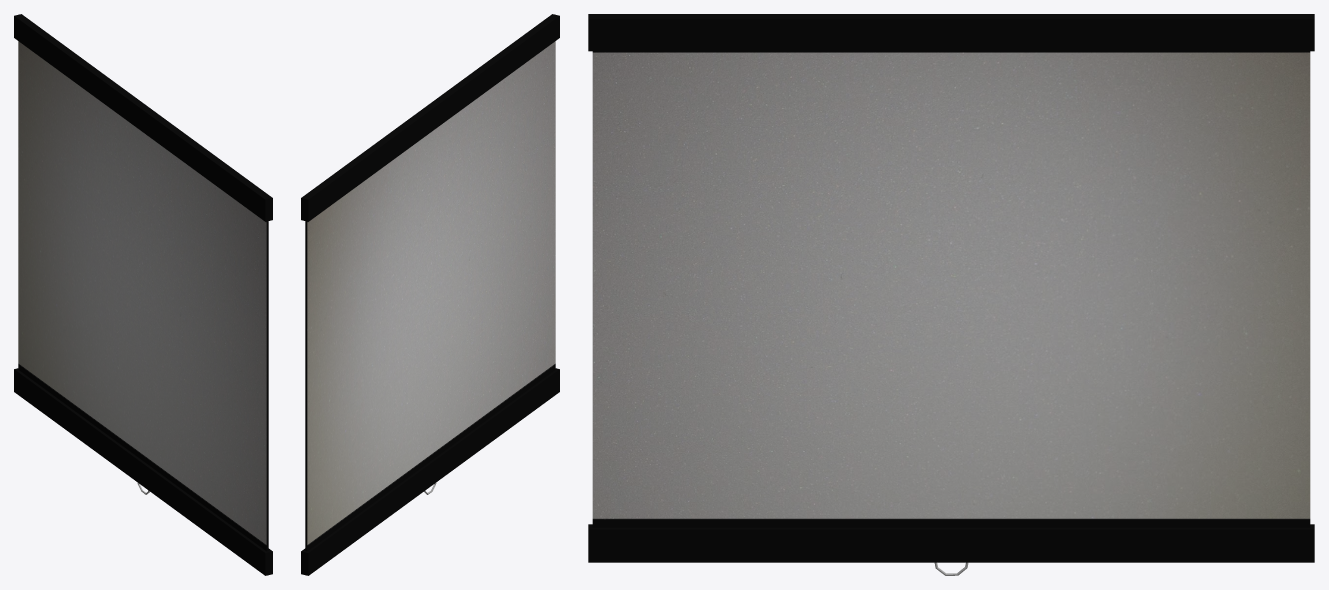
Rendered from ProjectionScreenBlank.fbx.
3 views of the same model, side by side, from view 1: azimuth 30°, elevation 25°; view 2: azimuth 150°, elevation 25°; view 3: azimuth 270°, elevation 25° (orthographic). The views are drawn at different scales.
Visible parts, largest first — view 1: ProjectorScreen1; view 2: ProjectorScreen1; view 3: ProjectorScreen1.
Boxes of the visible parts, x1=… form: ProjectorScreen1: x1=14, y1=14, x2=272, y2=575; ProjectorScreen1: x1=301, y1=14, x2=559, y2=575; ProjectorScreen1: x1=588, y1=14, x2=1314, y2=575.
Bounding box in the file's own units: 3.45 × 172 × 203.
Materials: 2 (1 with a texture image).
